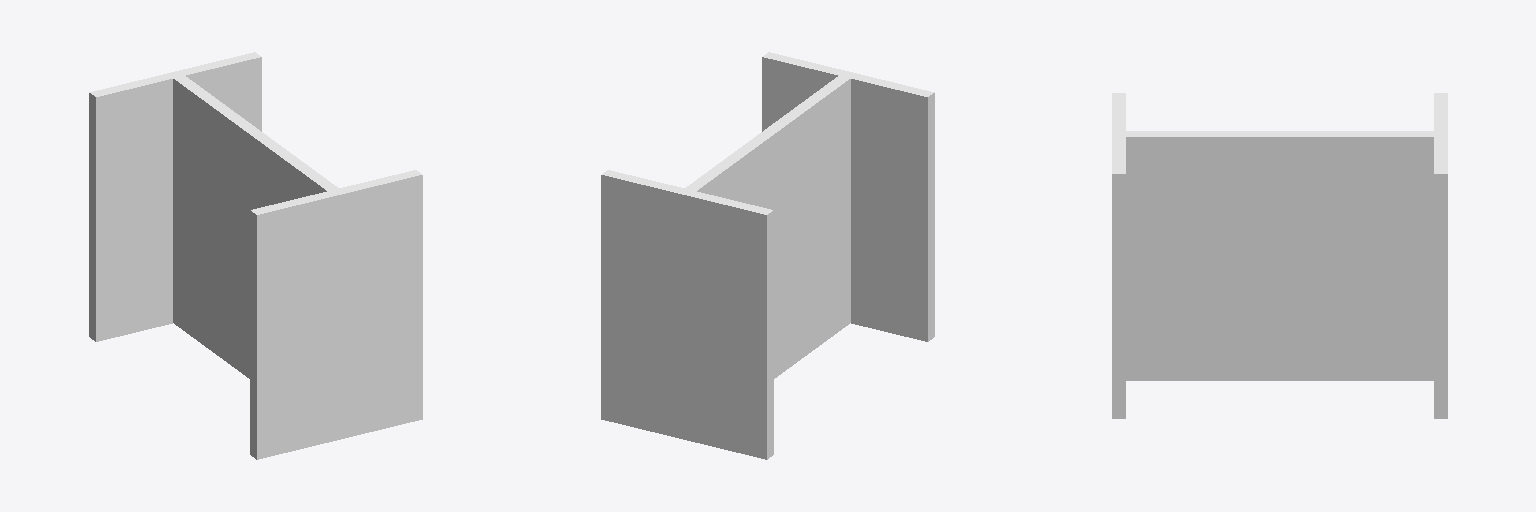
3 views of the same model, side by side, from view 1: azimuth 30°, elevation 25°; view 2: azimuth 150°, elevation 25°; view 3: azimuth 270°, elevation 25° (orthographic).
Visible parts, largest first — view 1: wall_3_16, wall_1_4, wall_2_10, wall_1_3, wall_3_15, wall_2_12, wall_2_11, wall_1_5, wall_3_18, wall_3_17, wall_1_6; view 2: wall_1_3, wall_3_15, wall_2_10, wall_1_4, wall_3_16, wall_2_12, wall_2_11, wall_3_18, wall_1_5, wall_1_6; view 3: wall_2_9, wall_1_3, wall_1_4, wall_3_15, wall_3_16, wall_2_11, wall_2_12, wall_1_5, wall_3_18, wall_1_6, wall_3_17.
Part boxes in pixels (x1,y1,x2,y2): wall_3_16: (254, 175, 422, 459); wall_1_4: (93, 57, 261, 341); wall_2_10: (173, 79, 326, 378); wall_1_3: (89, 93, 92, 339); wall_3_15: (250, 210, 253, 456); wall_2_12: (171, 75, 333, 193); wall_2_11: (179, 73, 338, 189); wall_1_5: (89, 52, 257, 94); wall_3_18: (254, 172, 421, 214); wall_3_17: (251, 170, 417, 212); wall_1_6: (94, 55, 260, 96); wall_1_3: (601, 175, 769, 459); wall_3_15: (762, 57, 930, 341); wall_2_10: (697, 79, 850, 378); wall_1_4: (770, 210, 773, 456); wall_3_16: (931, 93, 934, 339); wall_2_12: (690, 75, 852, 193); wall_2_11: (685, 74, 844, 189); wall_3_18: (766, 52, 934, 94); wall_1_5: (602, 172, 769, 214); wall_1_6: (606, 170, 772, 212); wall_2_9: (1126, 137, 1433, 380); wall_1_3: (1441, 174, 1447, 418); wall_1_4: (1434, 174, 1440, 418); wall_3_15: (1119, 174, 1125, 418); wall_3_16: (1112, 174, 1118, 418); wall_2_11: (1119, 134, 1440, 136); wall_2_12: (1119, 131, 1440, 133); wall_1_5: (1441, 93, 1447, 173); wall_3_18: (1112, 93, 1118, 173); wall_1_6: (1434, 93, 1440, 173); wall_3_17: (1119, 93, 1125, 173).
Size of the model in its own units: 108 by 152 by 189.